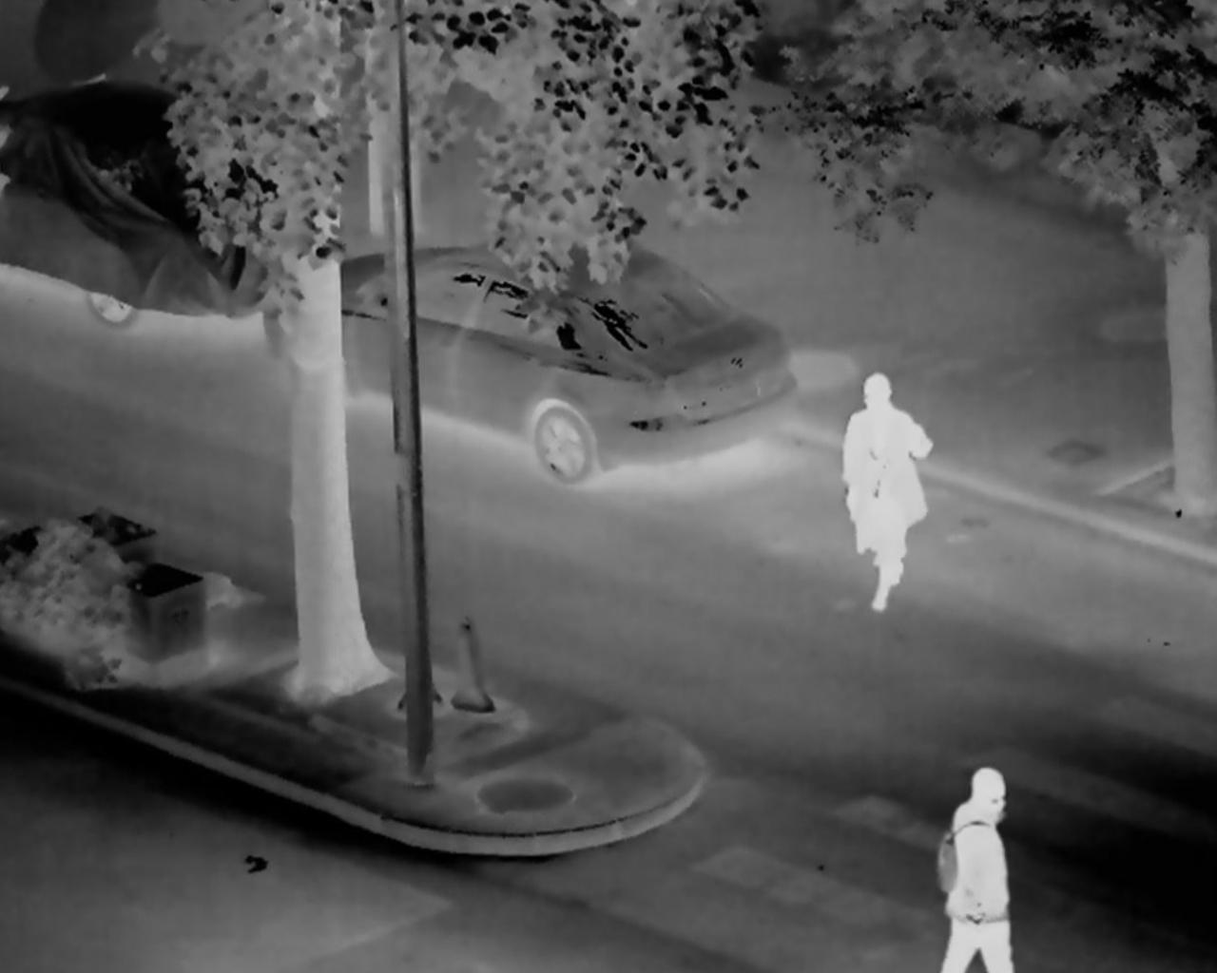person: (823, 355, 945, 623), (934, 752, 1060, 973)
